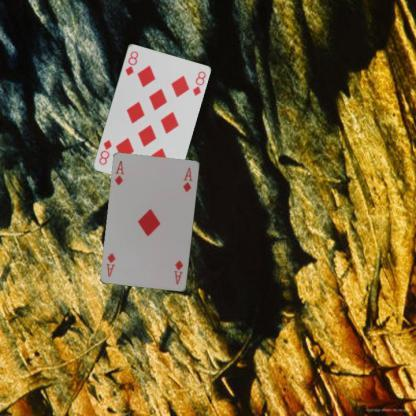8d: (122, 48, 140, 77)
Ad: (112, 158, 126, 187), (170, 258, 184, 286)
